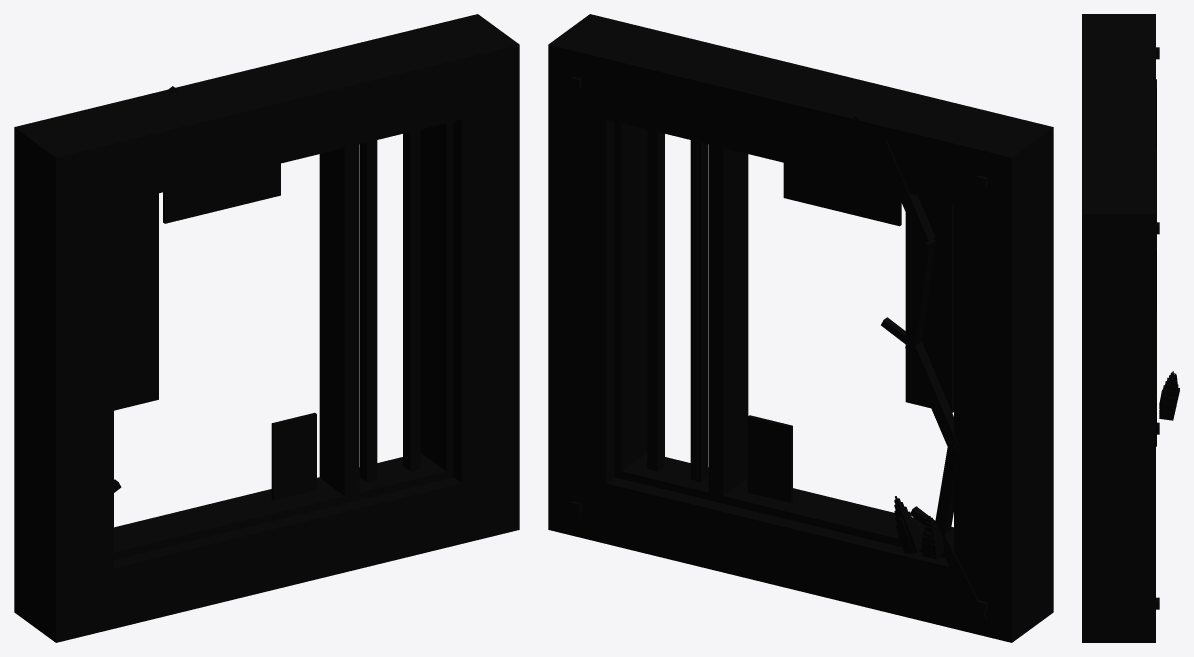
Rendered from lab_window_eroded.obj.
3 renders of one model, left to right at view 1: azimuth 30°, elevation 25°; view 2: azimuth 150°, elevation 25°; view 3: azimuth 270°, elevation 25°, orthographic. The views are drawn at different scales.
Bounding box in the file's own units: 0.8695 × 0.875 × 0.18.
